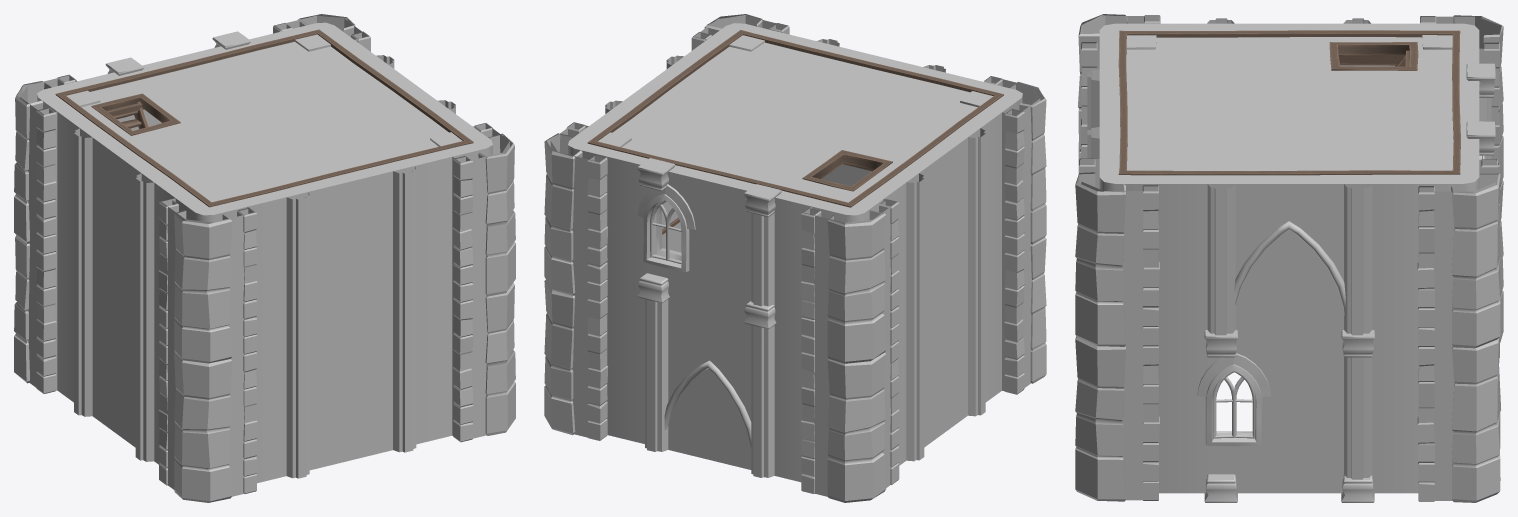
File: SM_TowerF_Mid_03.fbx
3 views of the same model, side by side, from view 1: azimuth 30°, elevation 25°; view 2: azimuth 150°, elevation 25°; view 3: azimuth 270°, elevation 25° (orthographic). The views are drawn at different scales.
Parts seen in each view (by area): view 1: SM_TowerF_Mid_03_LOD0; view 2: SM_TowerF_Mid_03_LOD0; view 3: SM_TowerF_Mid_03_LOD0.
Boxes of the visible parts, box(x1,y1,x2,y2) form: SM_TowerF_Mid_03_LOD0: box(14, 14, 515, 502); SM_TowerF_Mid_03_LOD0: box(544, 14, 1046, 502); SM_TowerF_Mid_03_LOD0: box(1075, 14, 1503, 502).
Bounding box in the file's own units: 1129 × 1129 × 923.
